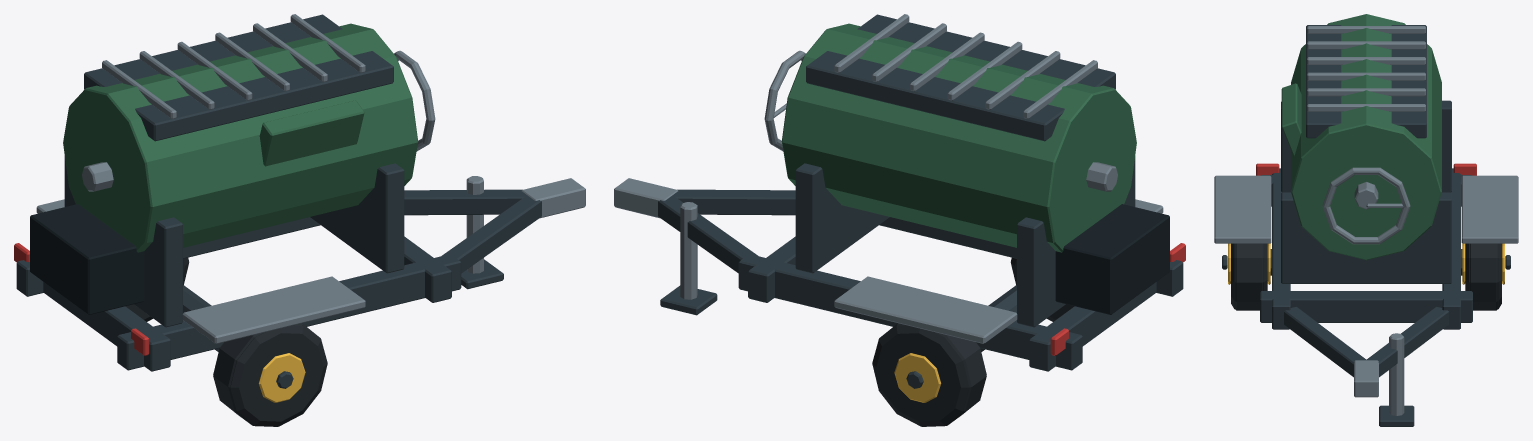
Rendered from b07_towable_paddle_mortar_mixer.glb.
3 renders of one model, left to right at view 1: azimuth 30°, elevation 25°; view 2: azimuth 150°, elevation 25°; view 3: azimuth 270°, elevation 25°, orthographic. The views are drawn at different scales.
Parts seen in each view (by area): view 1: b07_towable_paddle_mortar_mixer; view 2: b07_towable_paddle_mortar_mixer; view 3: b07_towable_paddle_mortar_mixer.
Boxes of the visible parts, x1,y1,x2,y2 form: b07_towable_paddle_mortar_mixer: [14, 14, 585, 426]; b07_towable_paddle_mortar_mixer: [614, 14, 1185, 426]; b07_towable_paddle_mortar_mixer: [1214, 14, 1518, 426].
Size of the model in its own units: 3.03 by 1.67 by 1.81.
